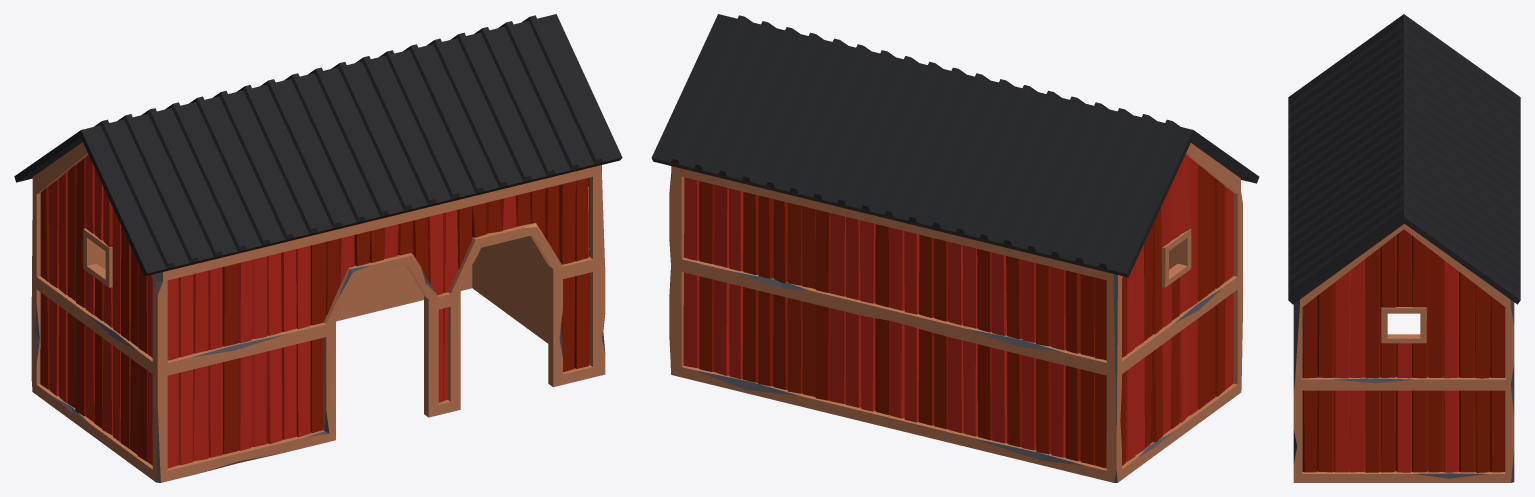
Rendered from Shed_1b.fbx.
3 renders of one model, left to right at view 1: azimuth 30°, elevation 25°; view 2: azimuth 150°, elevation 25°; view 3: azimuth 270°, elevation 25°, orthographic. The views are drawn at different scales.
Parts seen in each view (by area): view 1: Shed_1b; view 2: Shed_1b; view 3: Shed_1b.
Boxes of the visible parts, x1,y1,x2,y2 form: Shed_1b: (14, 14, 622, 482); Shed_1b: (651, 14, 1259, 482); Shed_1b: (1288, 14, 1520, 482).
Bounding box in the file's own units: 360 × 228 × 174.
